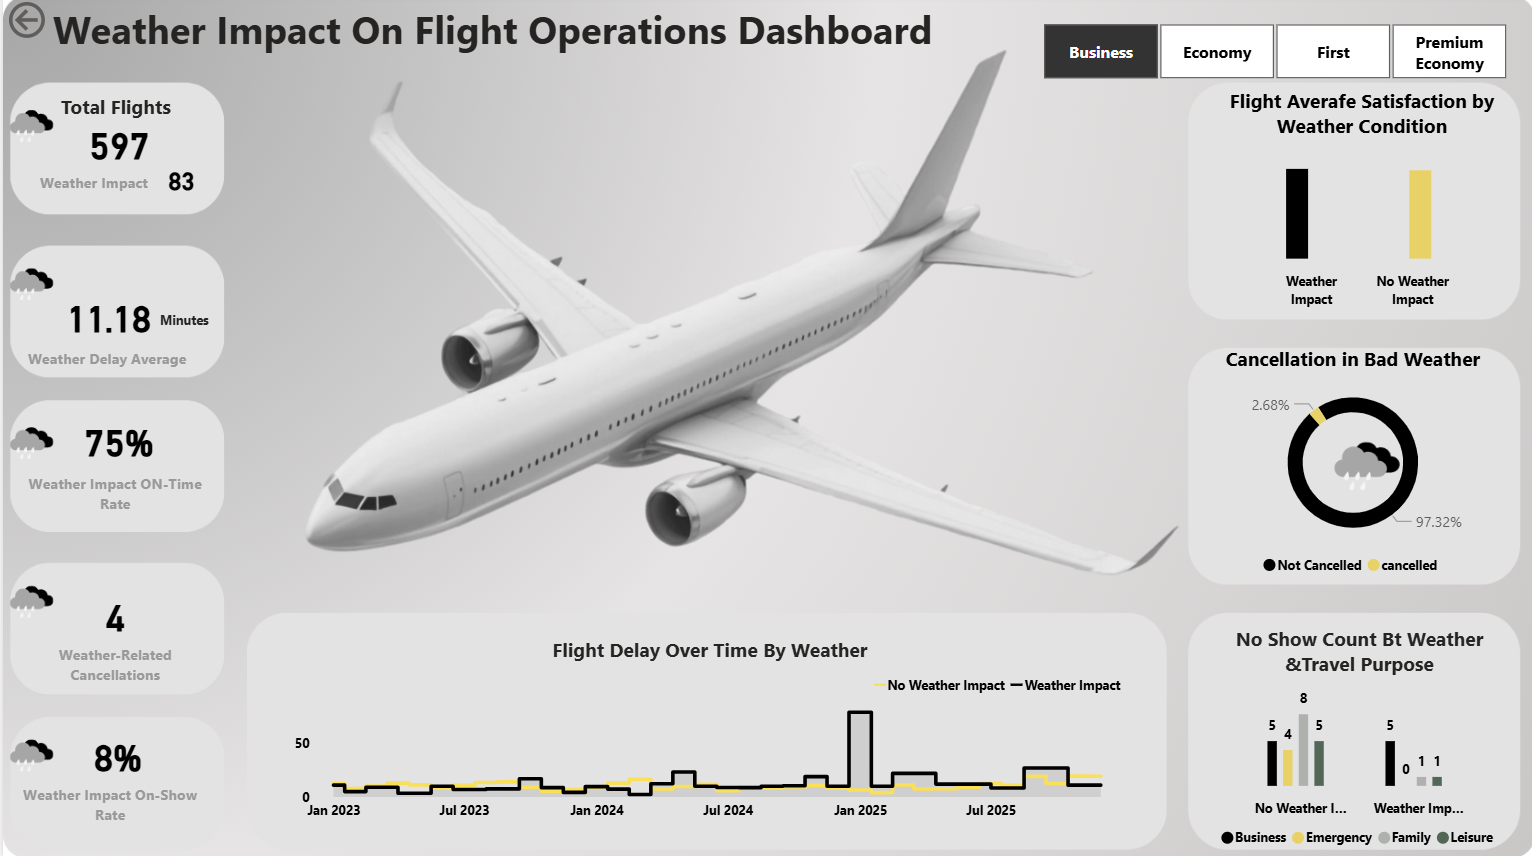

What the dashboard file says about the page in this screenshot:
{"tool":"powerbi","page":{"name":"Page 1","canvas":[1280,720],"ordinal":0},"visuals":[{"type":"textbox","box":[36.7,0,837.3,60],"z":0},{"type":"card","fields":{"Values":["Flights_Dataset.Total Flights"]},"box":[31.9,93.1,129.5,62.1],"z":1000},{"type":"card","fields":{"Values":["Flights_Dataset.Total_Flights(Weather_Impact)"]},"box":[105.5,135.7,87.8,38.1],"z":2000},{"type":"card","fields":{"Values":["Flights_Dataset.Avg_Delay(Weather_Impact)"]},"box":[5.3,232.3,166.7,71.8],"z":3000},{"type":"card","fields":{"Values":["Flights_Dataset.On-Time%(Weather_Impact)"]},"box":[0,340.5,193.3,62.1],"z":4000},{"type":"card","fields":{"Values":["Flights_Dataset.Total_Cancellation(Weather_Impact)"]},"box":[19.5,485.9,149,63.8],"z":5000},{"type":"actionButton","box":[0,0,100,40],"z":6000},{"type":"card","fields":{"Values":["Flights_Dataset.No-Show_Rate%(Weather_Impact)"]},"box":[32.8,608.3,126.8,53.2],"z":7000},{"type":"clusteredColumnChart","title":"Flight Averafe Satisfaction by Weather Condition","fields":{"Category":["Flights_Dataset.Weather_Impact_Label"],"Y":["Flights_Dataset.Average_Flights_Satisfaction_Score"],"Series":["Flights_Dataset.Weather_Impact_Label"]},"box":[990.4,77.1,289.1,191.5],"z":8000},{"type":"donutChart","title":"Cancellation in Bad Weather","fields":{"Category":["Flights_Dataset.Cancellation_table"],"Y":["CountNonNull(Flights_Dataset.Flight_ID)"]},"box":[992.2,292.6,270.4,200.4],"z":9000},{"type":"clusteredColumnChart","title":"No Show Count Bt Weather &Travel Purpose","fields":{"Category":["Flights_Dataset.Weather_Impact_Label"],"Y":["Sum(Flights_Dataset.No_Show)"],"Series":["Flights_Dataset.Travel_Purpose"]},"box":[1002.9,525.8,259.8,194.2],"z":10000},{"type":"textbox","box":[43.4,77.1,119.7,31.9],"z":11000},{"type":"slicer","fields":{"Values":["Flights_Dataset.Seat_Class"]},"box":[843.6,17,436.1,59.1],"z":12000},{"type":"textbox","box":[25.7,141,135.7,28.4],"z":13000},{"type":"textbox","box":[16,288.2,168.5,31.9],"z":14000},{"type":"textbox","box":[125.9,255.4,83.3,32.8],"z":15000},{"type":"textbox","box":[9.8,392.8,167.6,44.3],"z":16000},{"type":"textbox","box":[23.9,535.6,139.2,47],"z":17000},{"type":"textbox","box":[0,652.6,179.1,47],"z":18000},{"type":"areaChart","title":"Flight Delay Over Time By Weather","fields":{"Y":["Flights_Dataset.Average_Delay_Flights"],"Category":["Flights_Dataset.Departure_Time.1.Variation.Date Hierarchy.Year","Flights_Dataset.Departure_Time.1.Variation.Date Hierarchy.Month"],"Series":["Flights_Dataset.Weather_Impact_Label"]},"box":[237.6,535.6,704.9,162.3],"z":18001}]}

Visuals, with their boxes in screenshot pixels (x1, y1, x2, y2), scaled from the page's 1280x720 canvas onto the 1532x856 screenshot:
textbox: x1=44 y1=0 x2=1046 y2=71
card - Flights_Dataset.Total Flights: x1=38 y1=111 x2=193 y2=185
card - Flights_Dataset.Total_Flights(Weather_Impact): x1=126 y1=161 x2=231 y2=207
card - Flights_Dataset.Avg_Delay(Weather_Impact): x1=6 y1=276 x2=206 y2=362
card - Flights_Dataset.On-Time%(Weather_Impact): x1=0 y1=405 x2=231 y2=479
card - Flights_Dataset.Total_Cancellation(Weather_Impact): x1=23 y1=578 x2=202 y2=654
actionButton: x1=0 y1=0 x2=120 y2=48
card - Flights_Dataset.No-Show_Rate%(Weather_Impact): x1=39 y1=723 x2=191 y2=786
"Flight Averafe Satisfaction by Weather Condition" clusteredColumnChart: x1=1185 y1=92 x2=1531 y2=319
"Cancellation in Bad Weather" donutChart: x1=1188 y1=348 x2=1511 y2=586
"No Show Count Bt Weather &Travel Purpose" clusteredColumnChart: x1=1200 y1=625 x2=1511 y2=855
textbox: x1=52 y1=92 x2=195 y2=130
slicer - Flights_Dataset.Seat_Class: x1=1010 y1=20 x2=1531 y2=90
textbox: x1=31 y1=168 x2=193 y2=201
textbox: x1=19 y1=343 x2=221 y2=381
textbox: x1=151 y1=304 x2=250 y2=343
textbox: x1=12 y1=467 x2=212 y2=520
textbox: x1=29 y1=637 x2=195 y2=693
textbox: x1=0 y1=776 x2=214 y2=832
"Flight Delay Over Time By Weather" areaChart: x1=284 y1=637 x2=1128 y2=830
